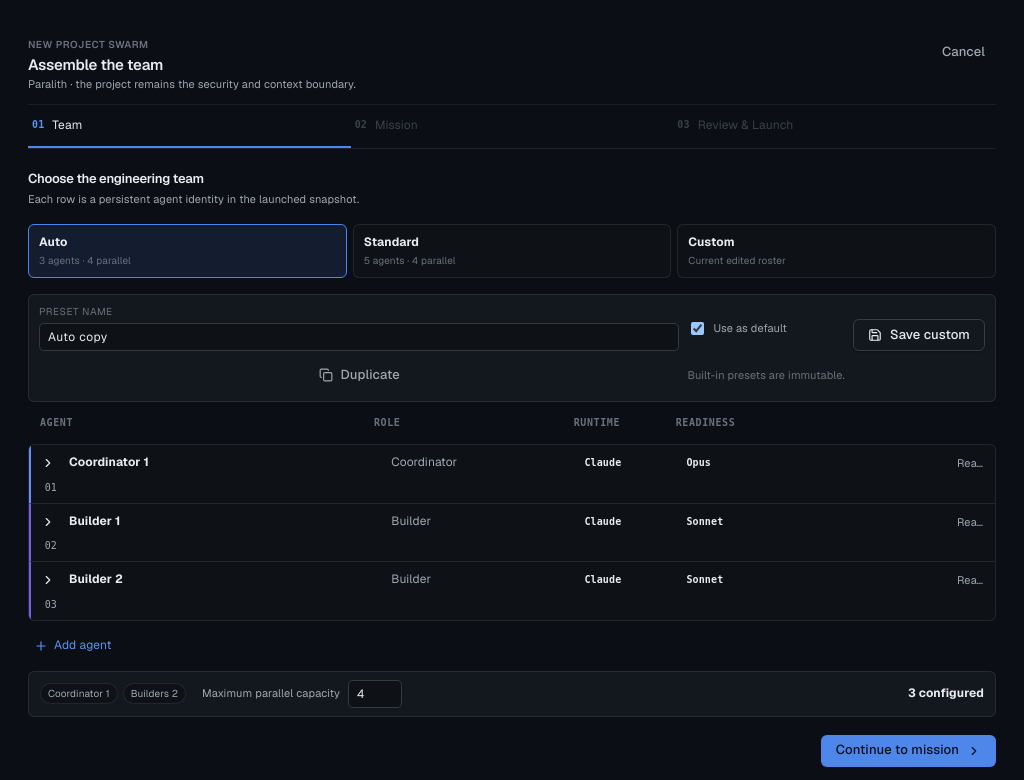
it: SwarmCreatePanel V2 › blocks launch when a configured runtime is unauthenticated
This screenshot has width=1024, height=780.
Click the text "Standard": (391, 242) [364,234,419,250]
(page scrolled)
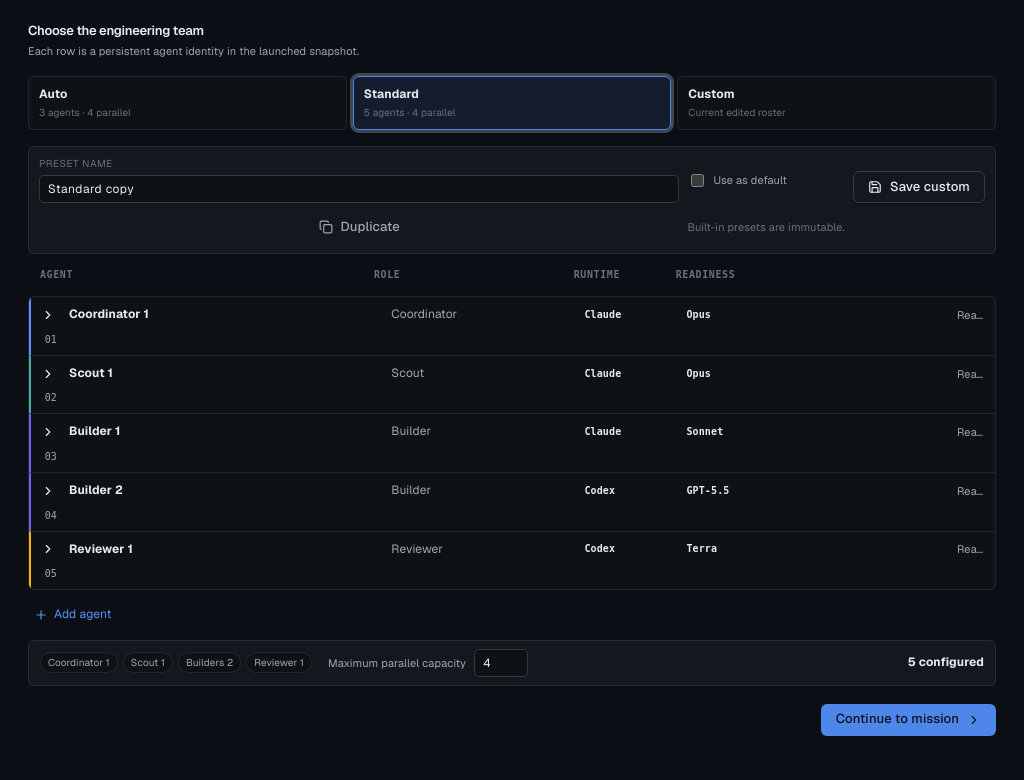
Check: the text "Builder 2" is shown, box [69,482,123,498]
Click the button "Continue to mission": (908, 720) [821,704,996,736]
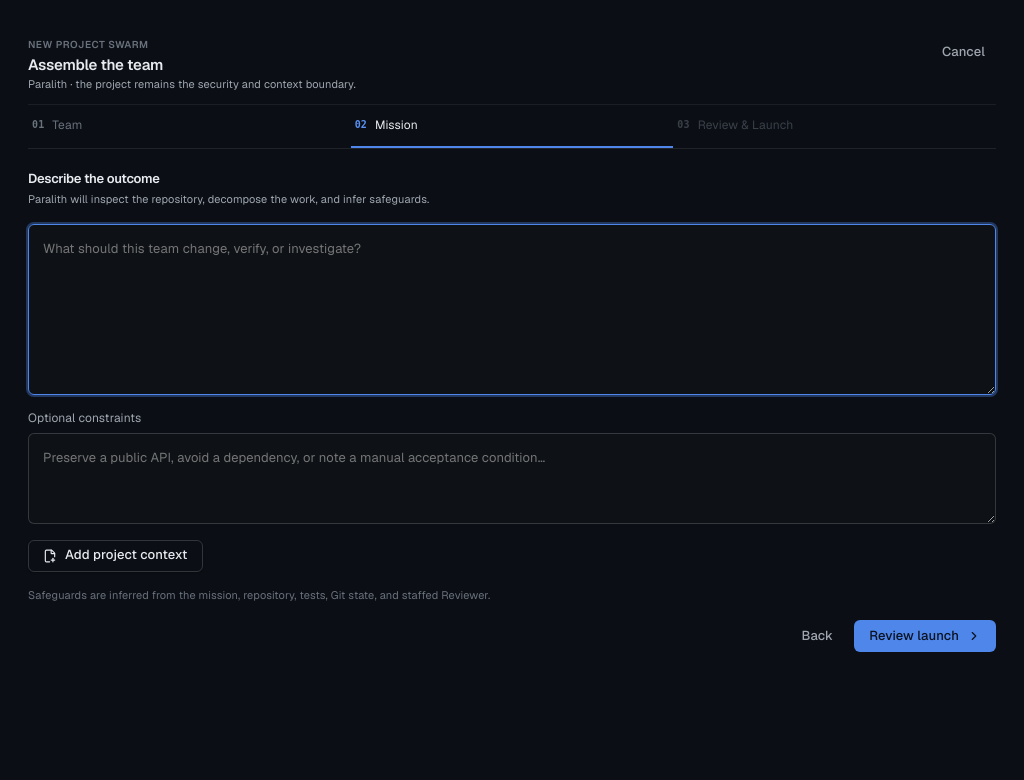
In the text box with placeholder "What should this team change, verify, or investigate?": (512, 309) [28,224,996,395], type "Repair the notification delivery pipeline"
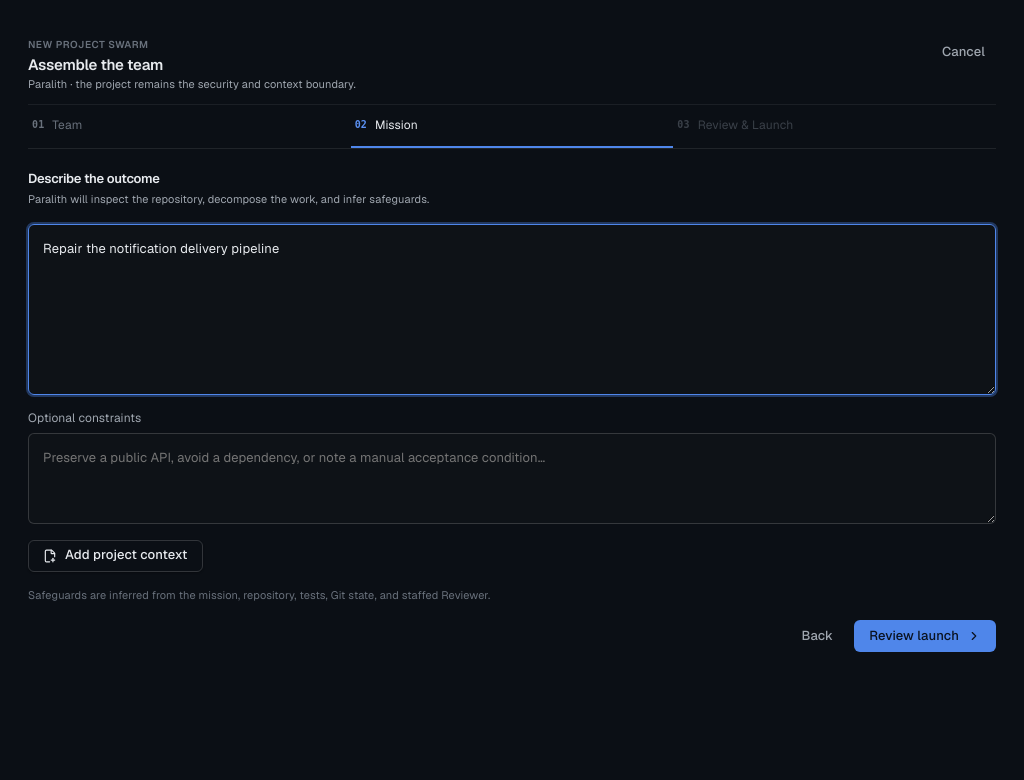
Click the button "Review launch": (925, 636) [854,620,996,652]
(page scrolled)
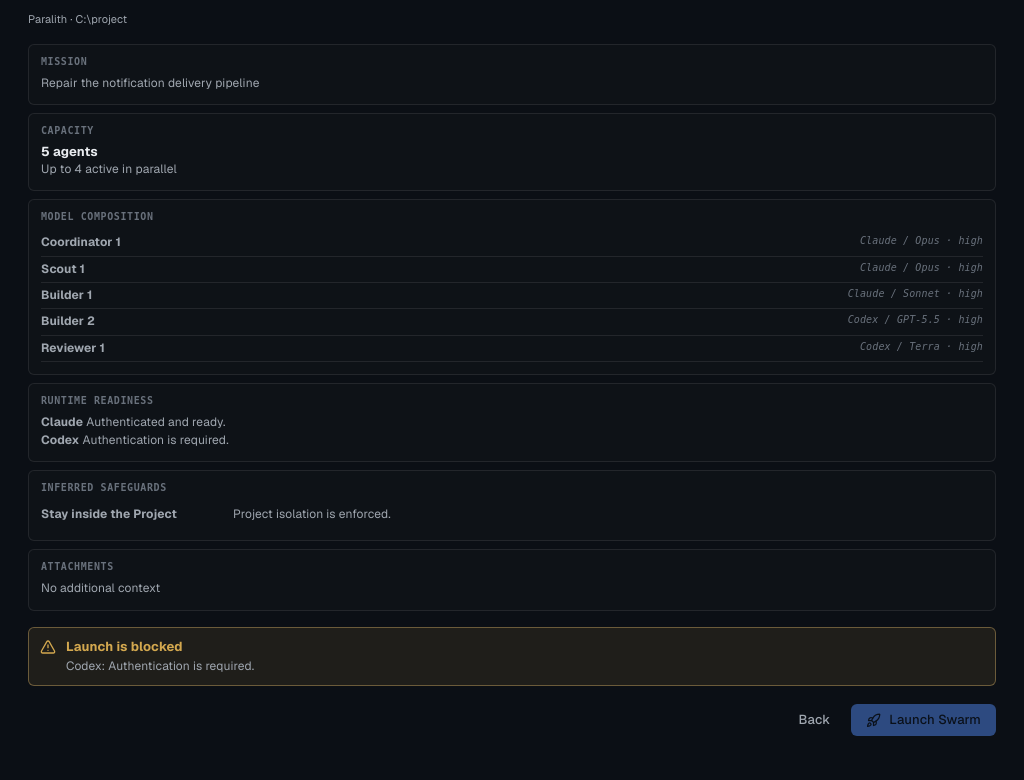
Check: the text "Launch is blocked" is shown, box [66,638,183,655]
Check: the button "Launch Swarm" is disabled, box [851,704,996,736]
